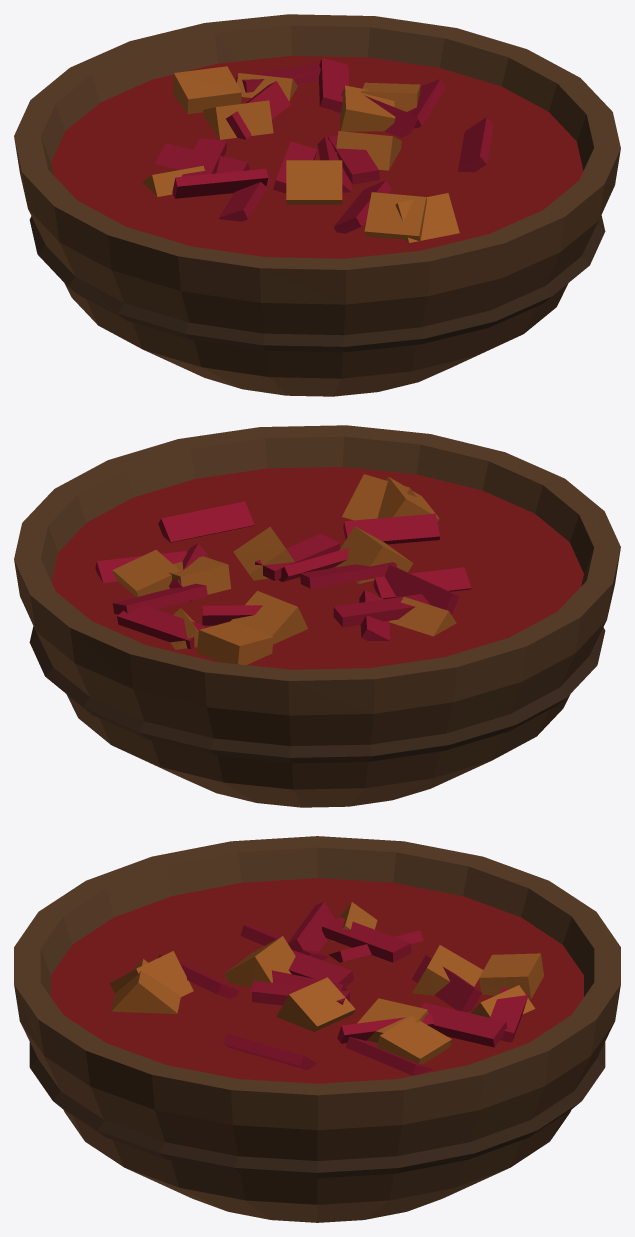
Rendered from VFP_Food_BloodThistleStew.obj.
3 renders of one model, top to bottom at view 1: azimuth 30°, elevation 25°; view 2: azimuth 150°, elevation 25°; view 3: azimuth 270°, elevation 25°, orthographic.
Parts seen in each view (by area): view 1: Bowl, Fill, Chunks, Strips, Bowl_wood_dark; view 2: Bowl, Fill, Strips, Chunks, Bowl_wood_dark; view 3: Bowl, Fill, Chunks, Strips, Bowl_wood_dark.
Boxes of the visible parts, bbox=[...] form: Bowl: bbox=[14, 14, 620, 396]; Fill: bbox=[51, 56, 583, 258]; Chunks: bbox=[142, 66, 459, 242]; Strips: bbox=[155, 58, 493, 233]; Bowl_wood_dark: bbox=[29, 215, 605, 352]; Bowl: bbox=[14, 425, 620, 807]; Fill: bbox=[51, 467, 583, 669]; Strips: bbox=[95, 501, 471, 649]; Chunks: bbox=[112, 474, 456, 664]; Bowl_wood_dark: bbox=[29, 626, 605, 763]; Bowl: bbox=[14, 836, 620, 1222]; Fill: bbox=[51, 878, 583, 1083]; Chunks: bbox=[109, 902, 543, 1064]; Strips: bbox=[157, 901, 528, 1075]; Bowl_wood_dark: bbox=[29, 1042, 605, 1178].
Size of the model in its own units: 0.3264 by 0.1138 by 0.323.
